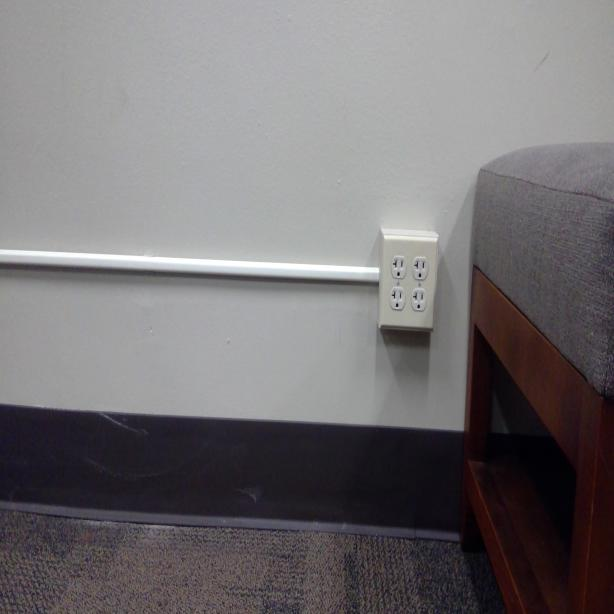typeb: (412, 257, 428, 281), (412, 288, 428, 312), (389, 288, 404, 309), (392, 256, 406, 277)
